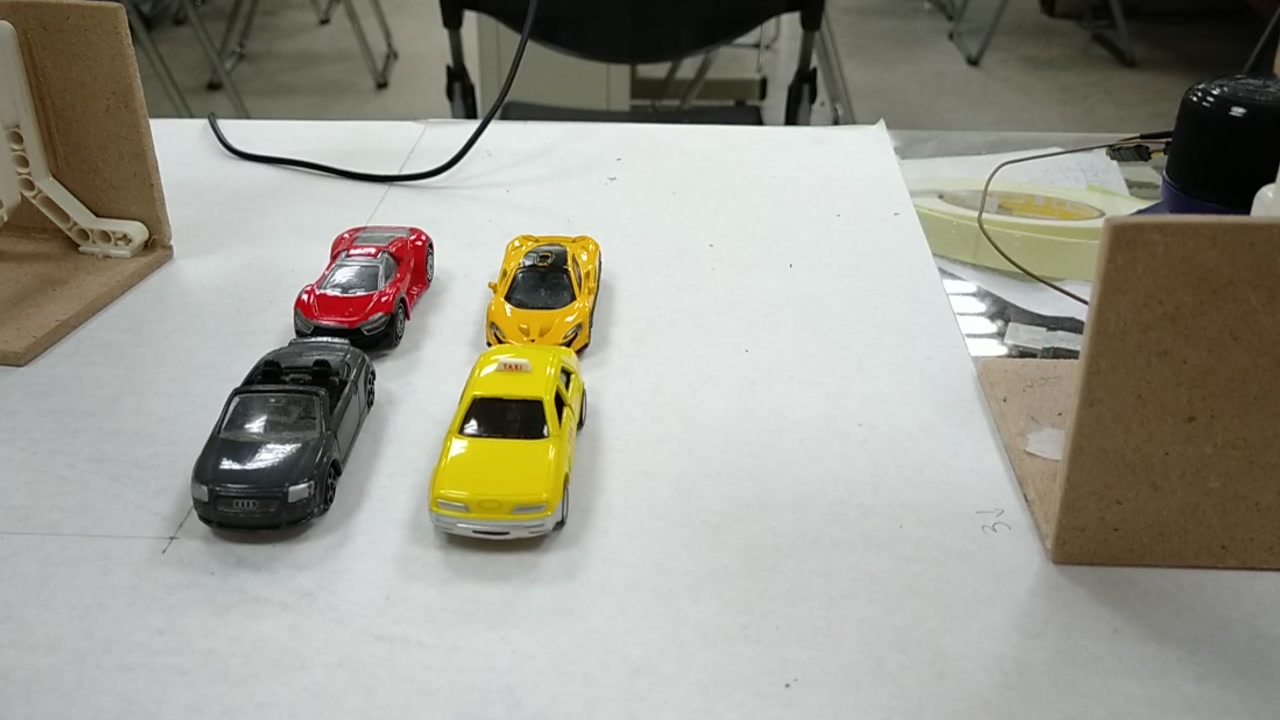car: (191, 344, 369, 529), (427, 346, 583, 536), (294, 219, 435, 334), (485, 238, 607, 346)
